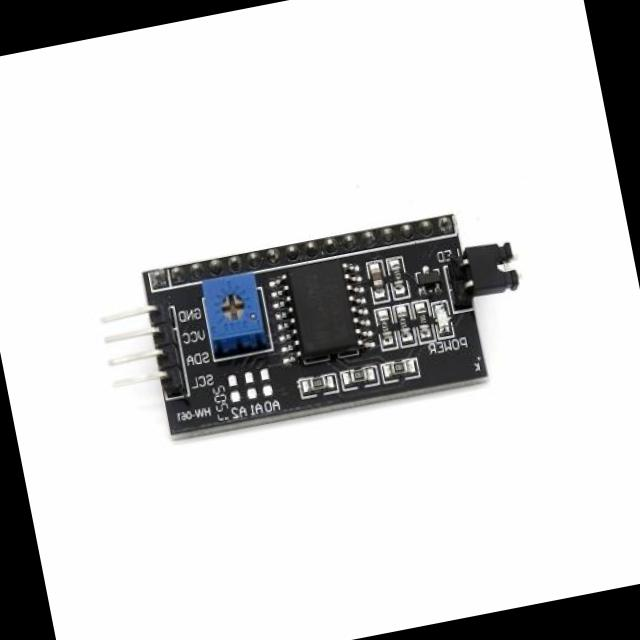IC: (274, 256, 374, 366)
LED: (432, 302, 454, 336)
capacitor: (367, 259, 386, 293)
connector: (95, 298, 190, 407), (442, 231, 538, 316)
potentiometer: (194, 264, 272, 360)
resistor: (298, 374, 336, 400), (342, 366, 378, 392), (384, 356, 419, 382), (414, 300, 434, 342), (390, 256, 407, 296), (376, 308, 393, 347), (395, 307, 414, 341)
transistor: (412, 262, 444, 296)
